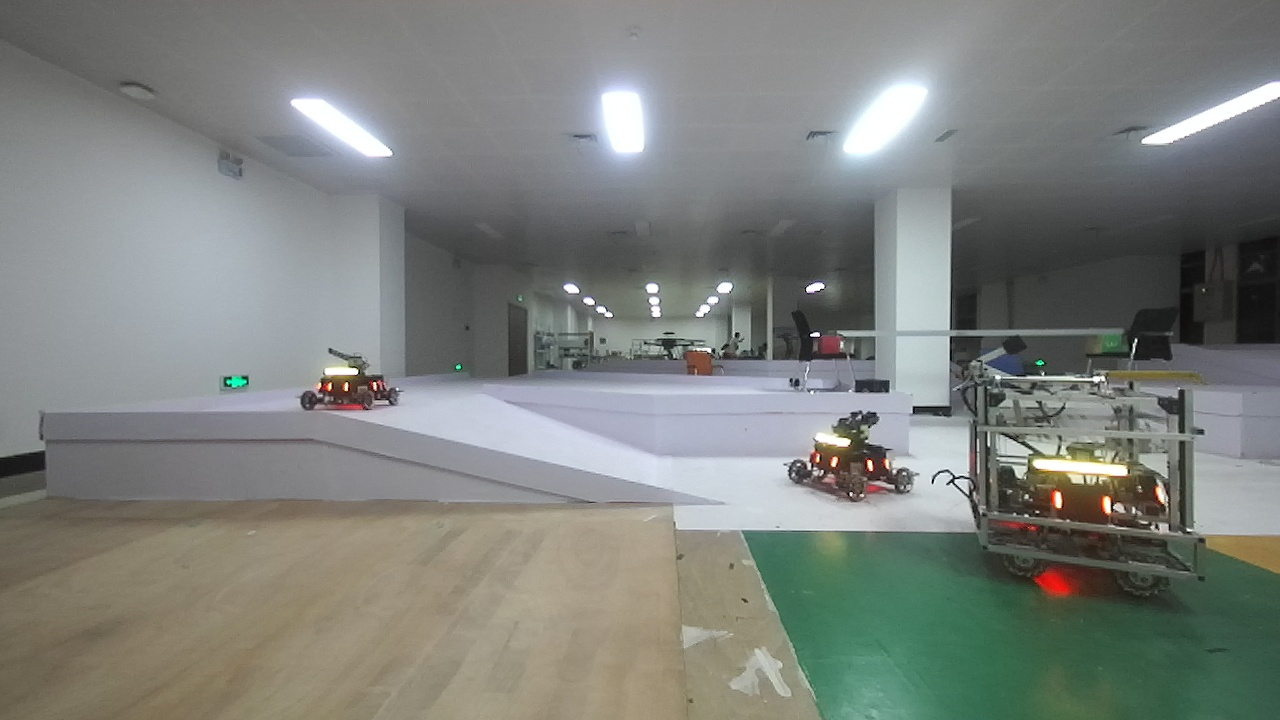car: (952, 381, 1221, 615), (294, 331, 433, 427), (773, 413, 929, 490)
